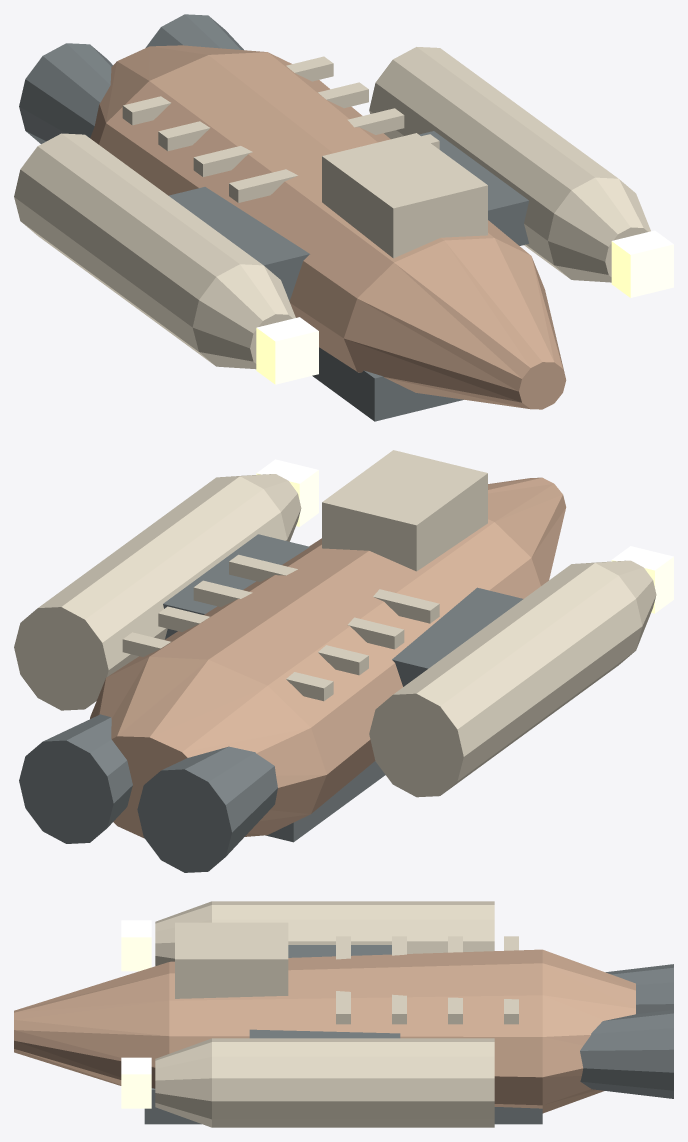
The picture shows the model from 3 angles, top to bottom: view 1: azimuth 30°, elevation 25°; view 2: azimuth 150°, elevation 25°; view 3: azimuth 270°, elevation 25°; orthographic projection. The views are drawn at different scales.
Size of the model in its own units: 4.01 by 1.71 by 6.44.
